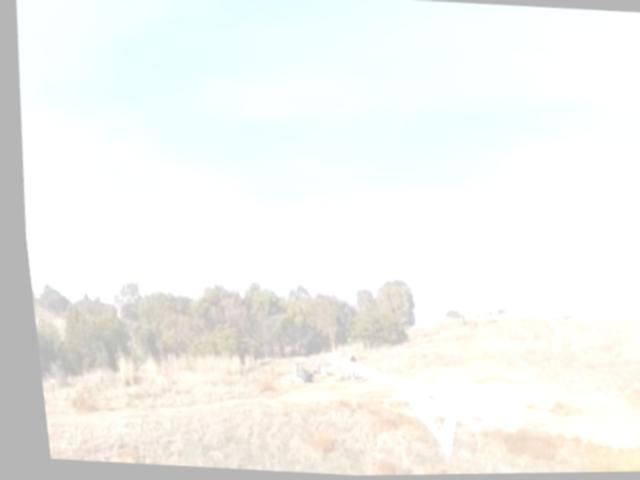uav: (303, 341, 524, 468)
